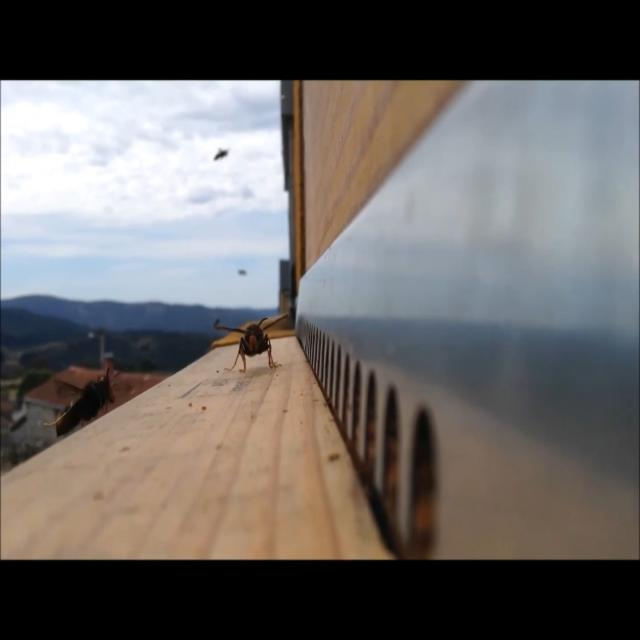Hornets: (210, 313, 288, 375)
